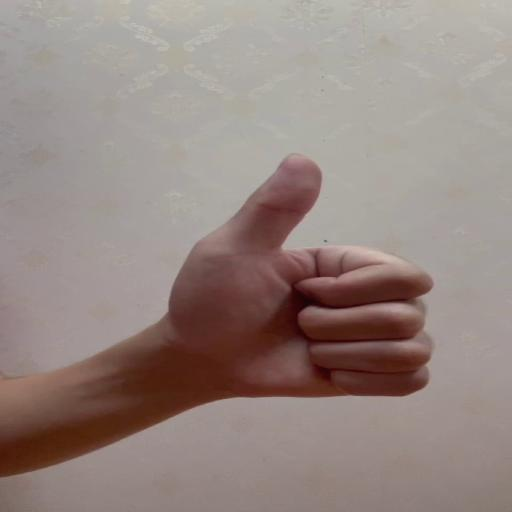thumbs_up: (169, 151, 435, 399)
